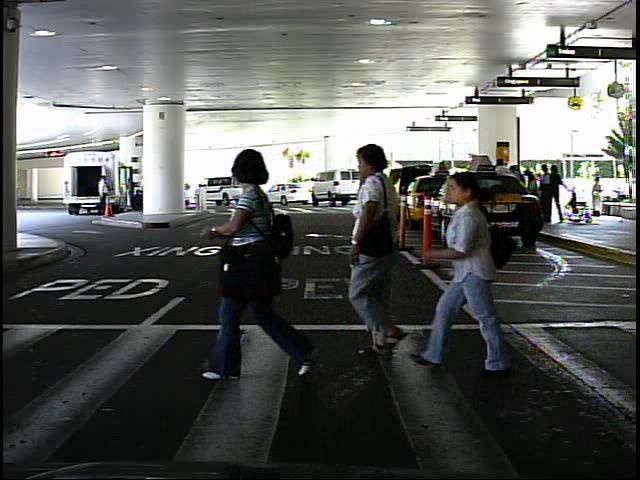person: (211, 143, 327, 390), (411, 162, 528, 381), (342, 137, 422, 358), (93, 172, 112, 222), (588, 173, 607, 218)
